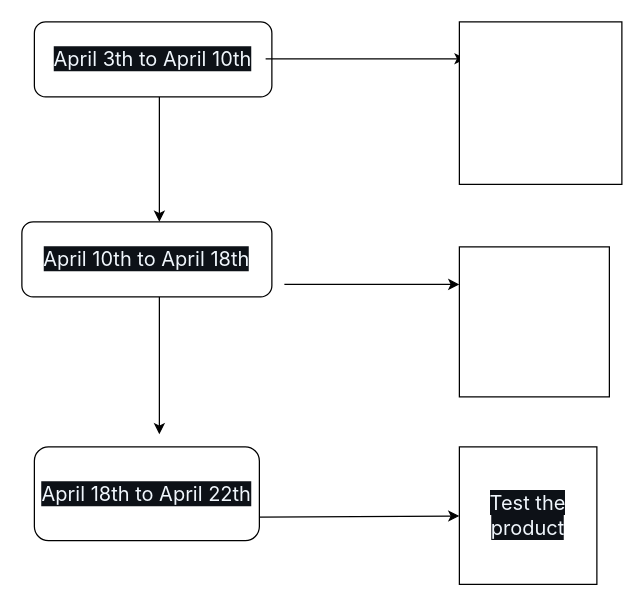
This 644x606 diagram has some shape labels left out. Here are the shapes that lost their labels. From the top down, the centre of each, then its label:
At point (540, 102): "Confirm the requirement of the market".
At point (533, 321): "Write the codes and prototyping".
